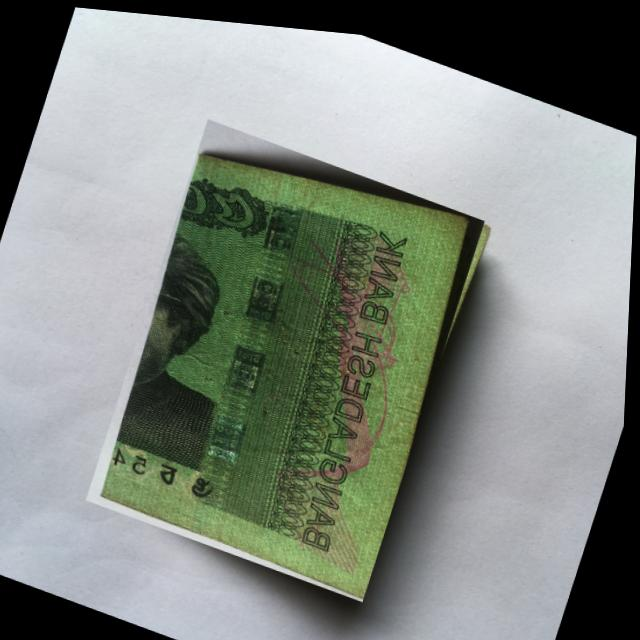Taka: (88, 107, 489, 602)
